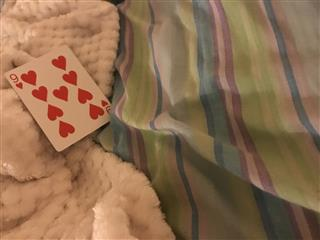NineOfHearts: (3, 44, 112, 151)
